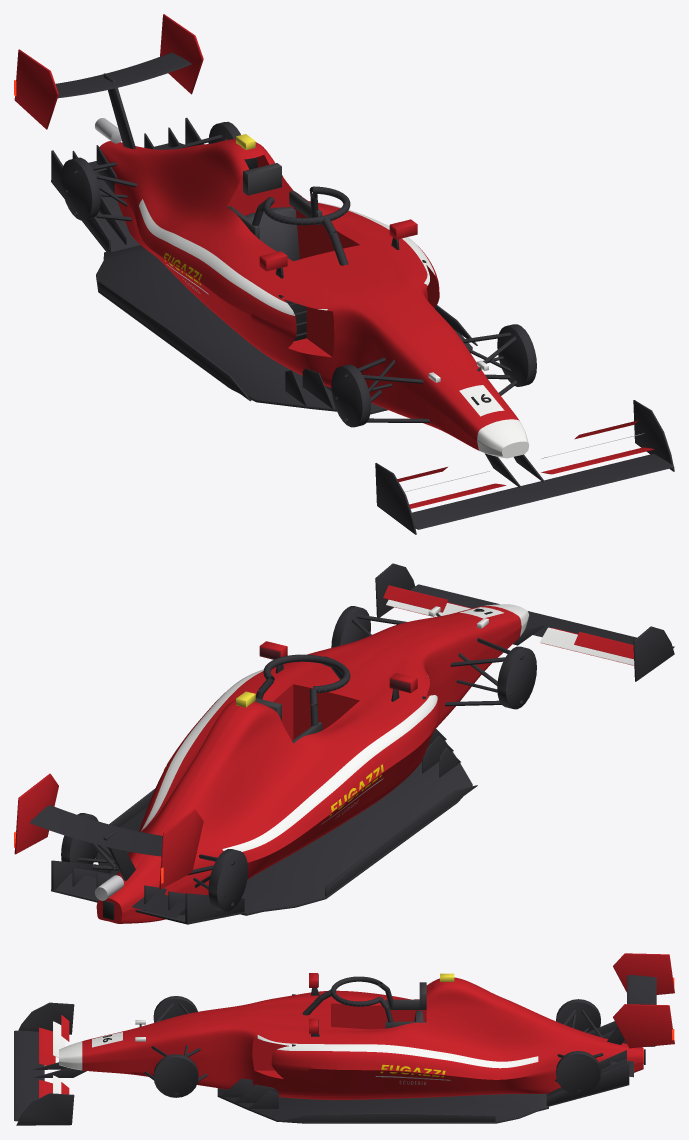
The model's file is fugazzi_sf26.glb.
3 renders of one model, top to bottom at view 1: azimuth 30°, elevation 25°; view 2: azimuth 150°, elevation 25°; view 3: azimuth 270°, elevation 25°, orthographic. The views are drawn at different scales.
Visible parts, largest first — view 1: fugazzi_sf26; view 2: fugazzi_sf26; view 3: fugazzi_sf26.
Part boxes in pixels (x1=…): fugazzi_sf26: x1=14, y1=14, x2=674, y2=534; fugazzi_sf26: x1=14, y1=563, x2=674, y2=924; fugazzi_sf26: x1=14, y1=953, x2=674, y2=1125.
Size of the model in its own units: 1.82 by 1.02 by 5.59.
Materials: 14 (1 with a texture image).
